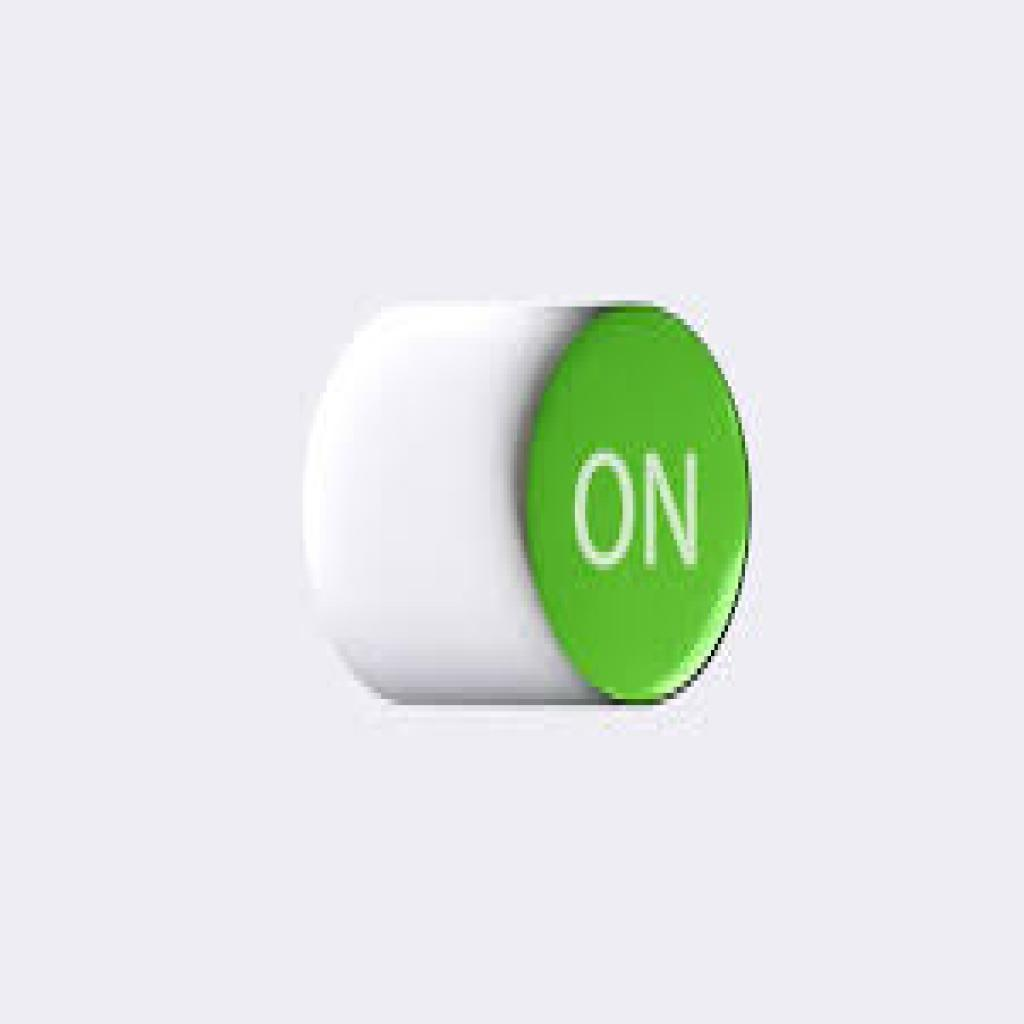switch: (295, 305, 753, 706)
